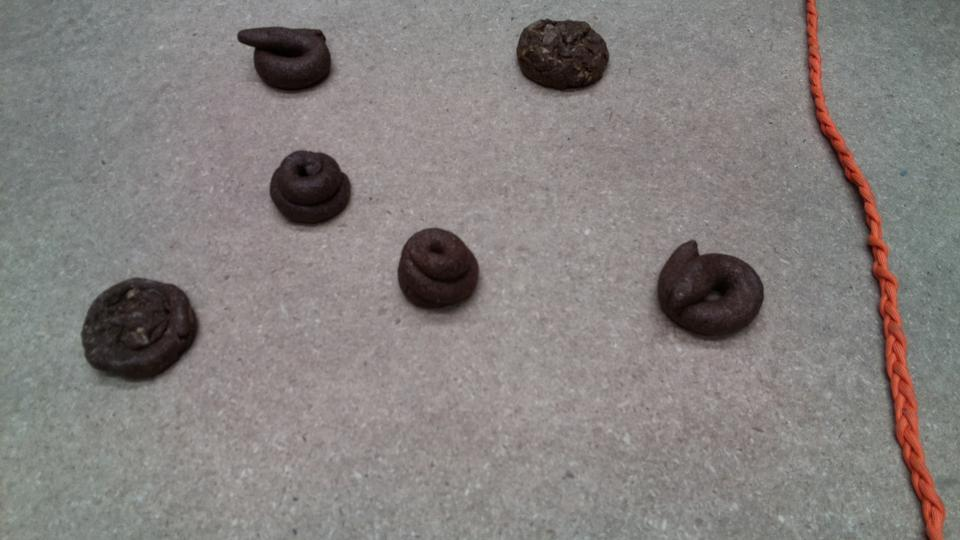poop: (78, 275, 202, 385), (652, 234, 769, 347), (394, 224, 483, 314), (514, 15, 613, 95), (267, 146, 355, 231), (236, 22, 336, 96)
rope: (804, 1, 959, 537)
